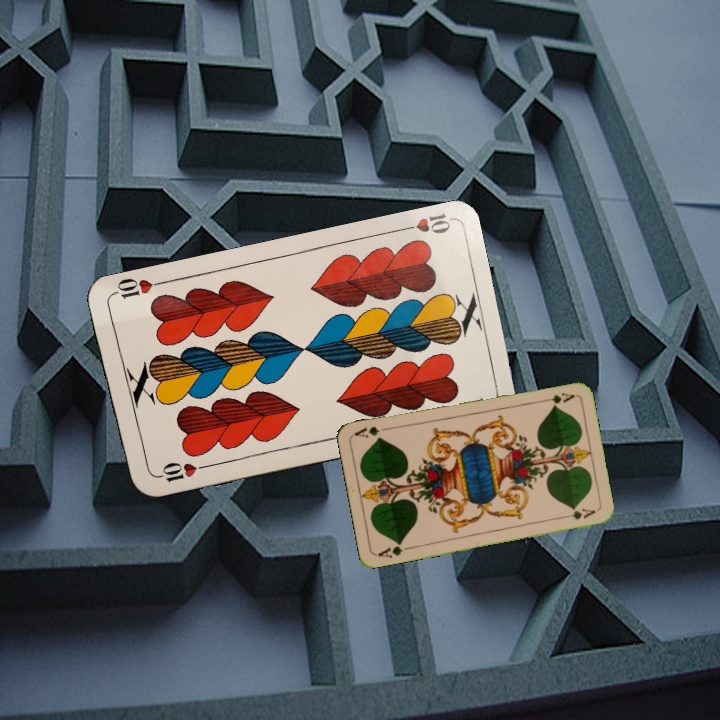GA: (374, 538, 414, 560), (537, 388, 577, 407)
H10: (394, 209, 453, 237), (151, 458, 209, 485)
